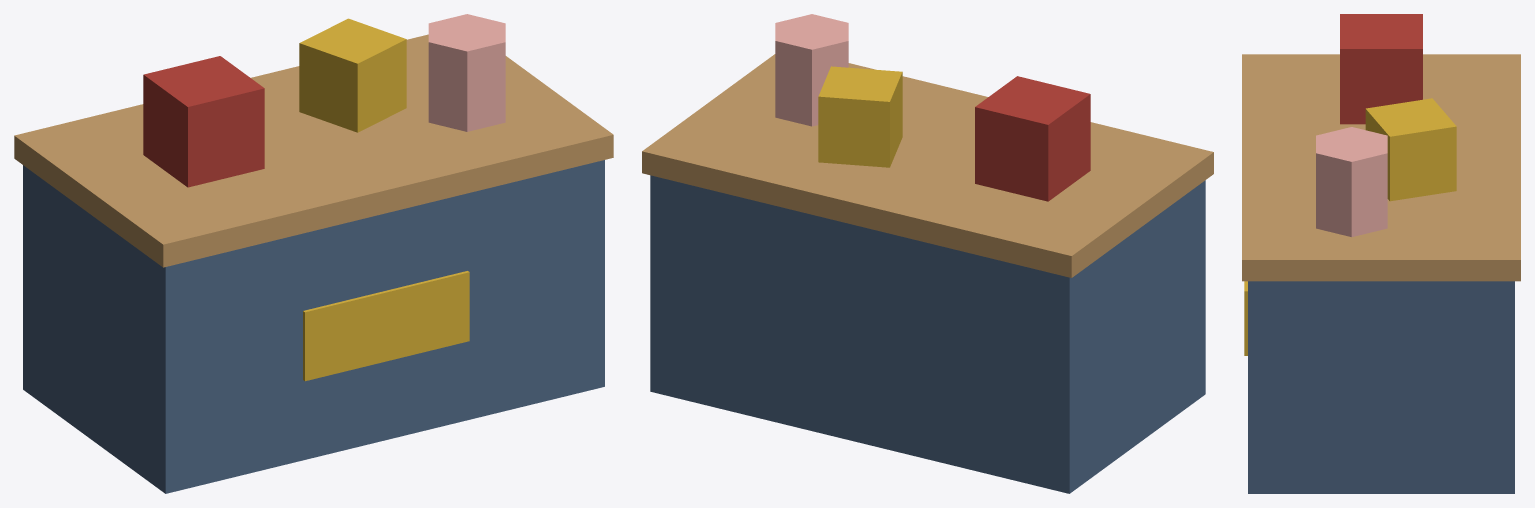
Rendered from GH_ToyBox_01.glb.
The picture shows the model from 3 angles, left to right: view 1: azimuth 30°, elevation 25°; view 2: azimuth 150°, elevation 25°; view 3: azimuth 270°, elevation 25°; orthographic projection. The views are drawn at different scales.
Parts seen in each view (by area): view 1: GH_ToyBox_01; view 2: GH_ToyBox_01; view 3: GH_ToyBox_01.
Part boxes in pixels (x1,y1,x2,y2): GH_ToyBox_01: (14,14,613,493); GH_ToyBox_01: (642,14,1213,493); GH_ToyBox_01: (1242,14,1520,493).
Bounding box in the file's own units: 0.82 × 0.58 × 0.47.
Materials: 1 (1 with a texture image).
